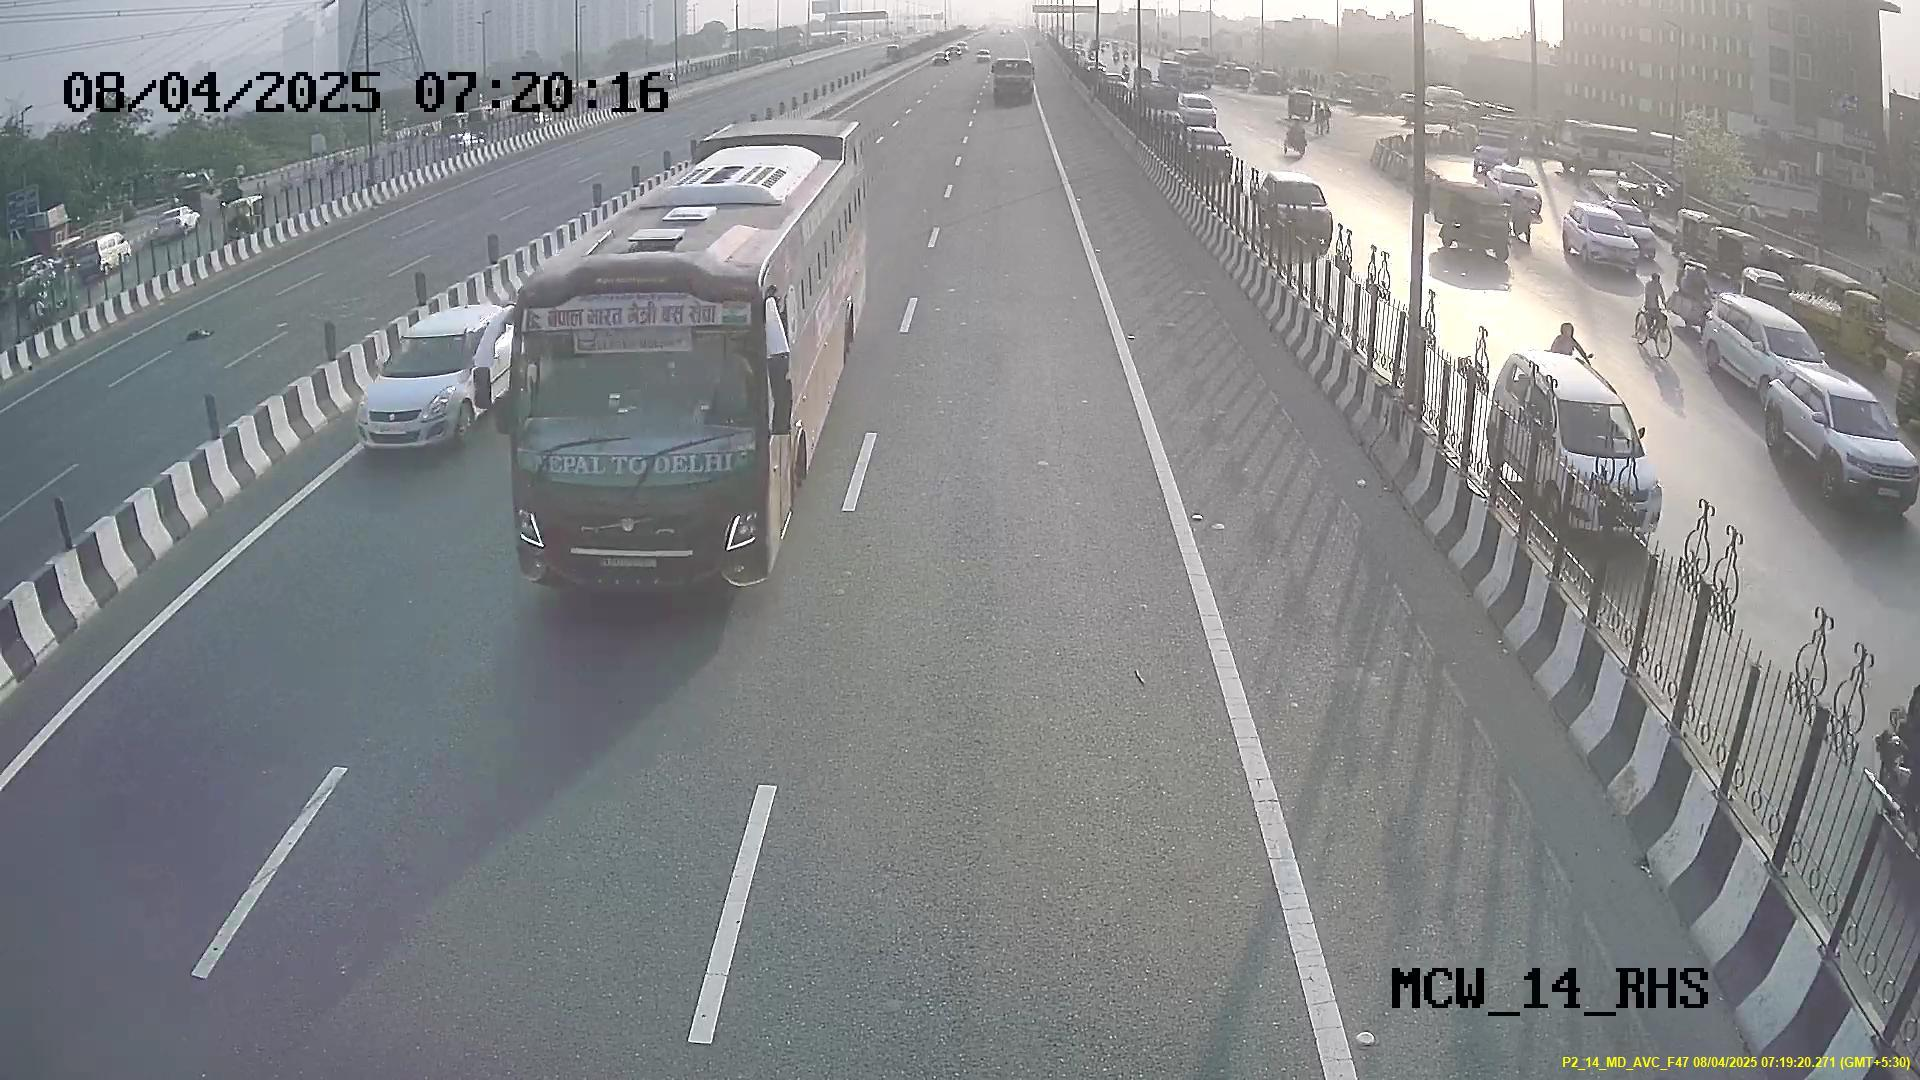bus: (502, 199, 847, 603)
car: (355, 315, 498, 450)
